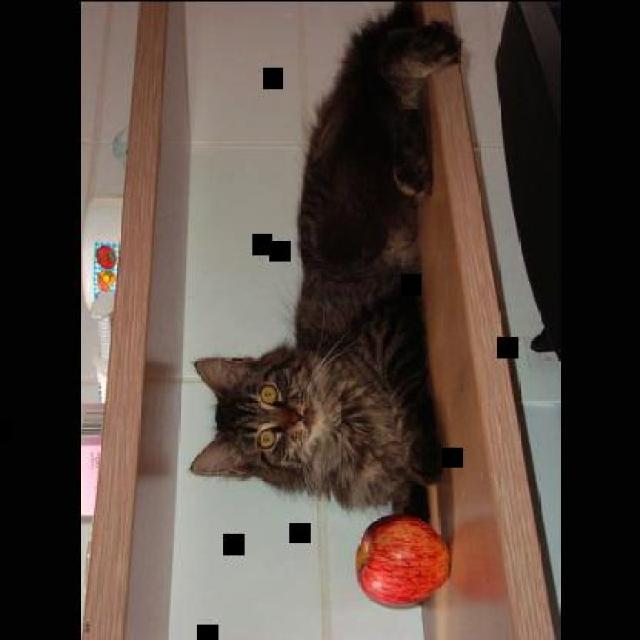unauthorized: (188, 0, 463, 511)
